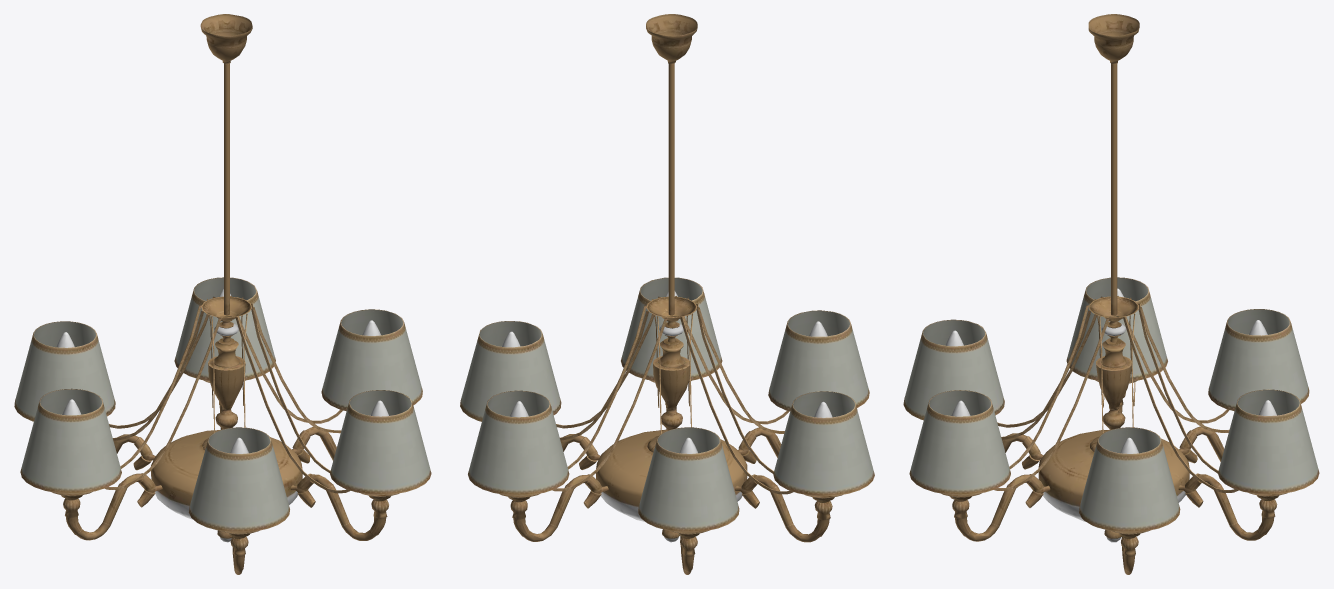
File: Chandelier_02.glb
3 views of the same model, side by side, from view 1: azimuth 30°, elevation 25°; view 2: azimuth 150°, elevation 25°; view 3: azimuth 270°, elevation 25° (orthographic).
Parts seen in each view (by area): view 1: Chandelier_02; view 2: Chandelier_02; view 3: Chandelier_02.
Part boxes in pixels (x1,y1,x2,y2): Chandelier_02: [14, 14, 431, 574]; Chandelier_02: [460, 14, 874, 574]; Chandelier_02: [903, 14, 1319, 574].
Size of the model in its own units: 0.6788 by 0.8481 by 0.619.
Materials: 2 (1 with a texture image).
